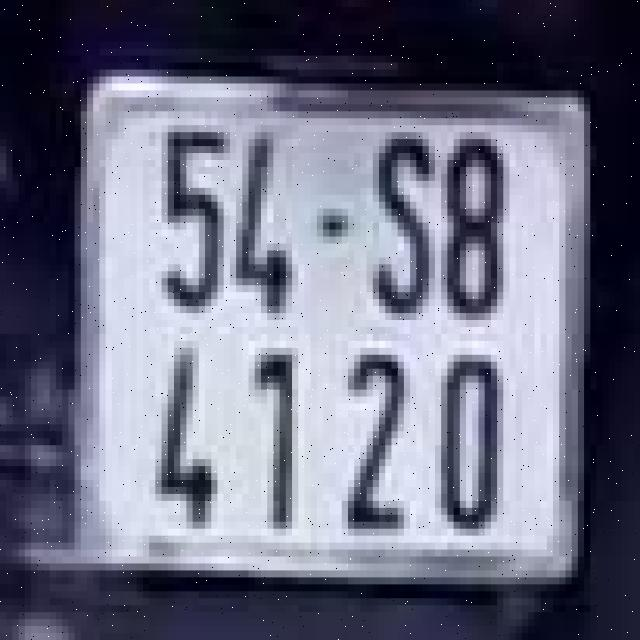0: (435, 341, 516, 536)
1: (239, 338, 314, 539)
2: (339, 334, 413, 549)
4: (143, 338, 230, 539), (233, 118, 301, 327)
5: (149, 101, 230, 323)
8: (441, 115, 510, 337)
S: (367, 115, 435, 337)
